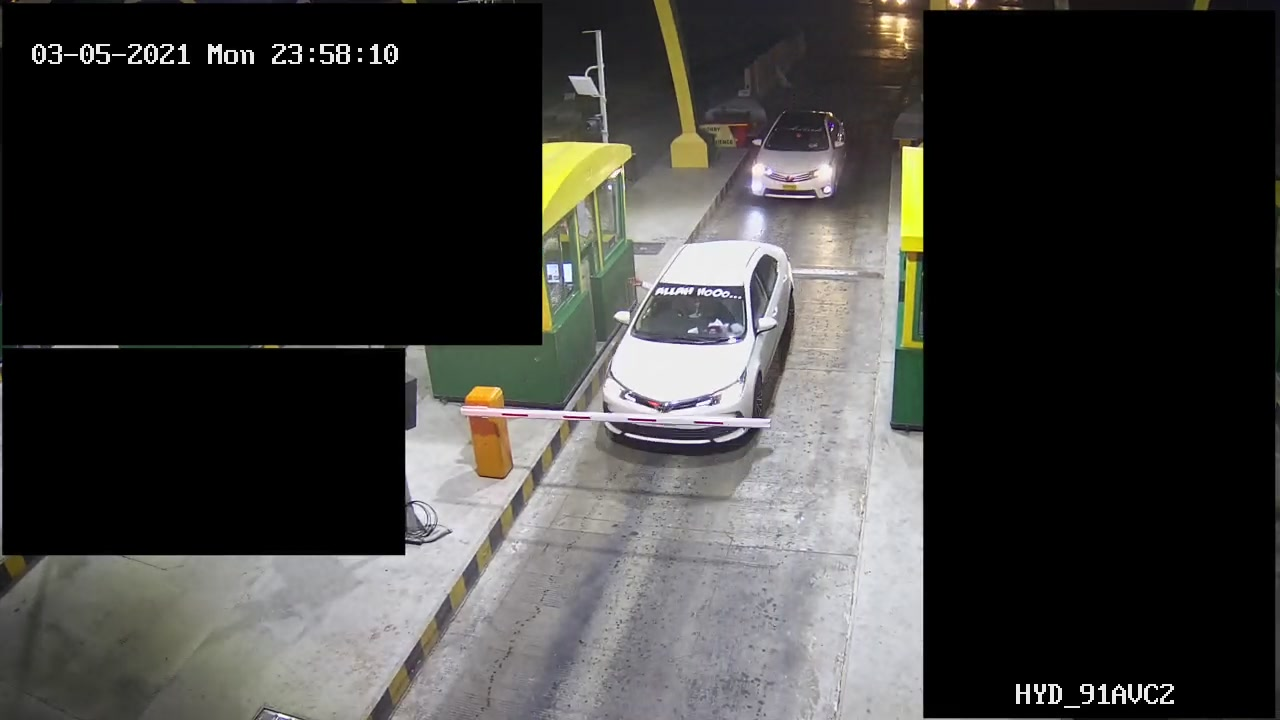F1: (589, 232, 808, 456), (742, 99, 866, 214)
